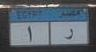1: (25, 25, 33, 42)
raa: (61, 27, 76, 40)
